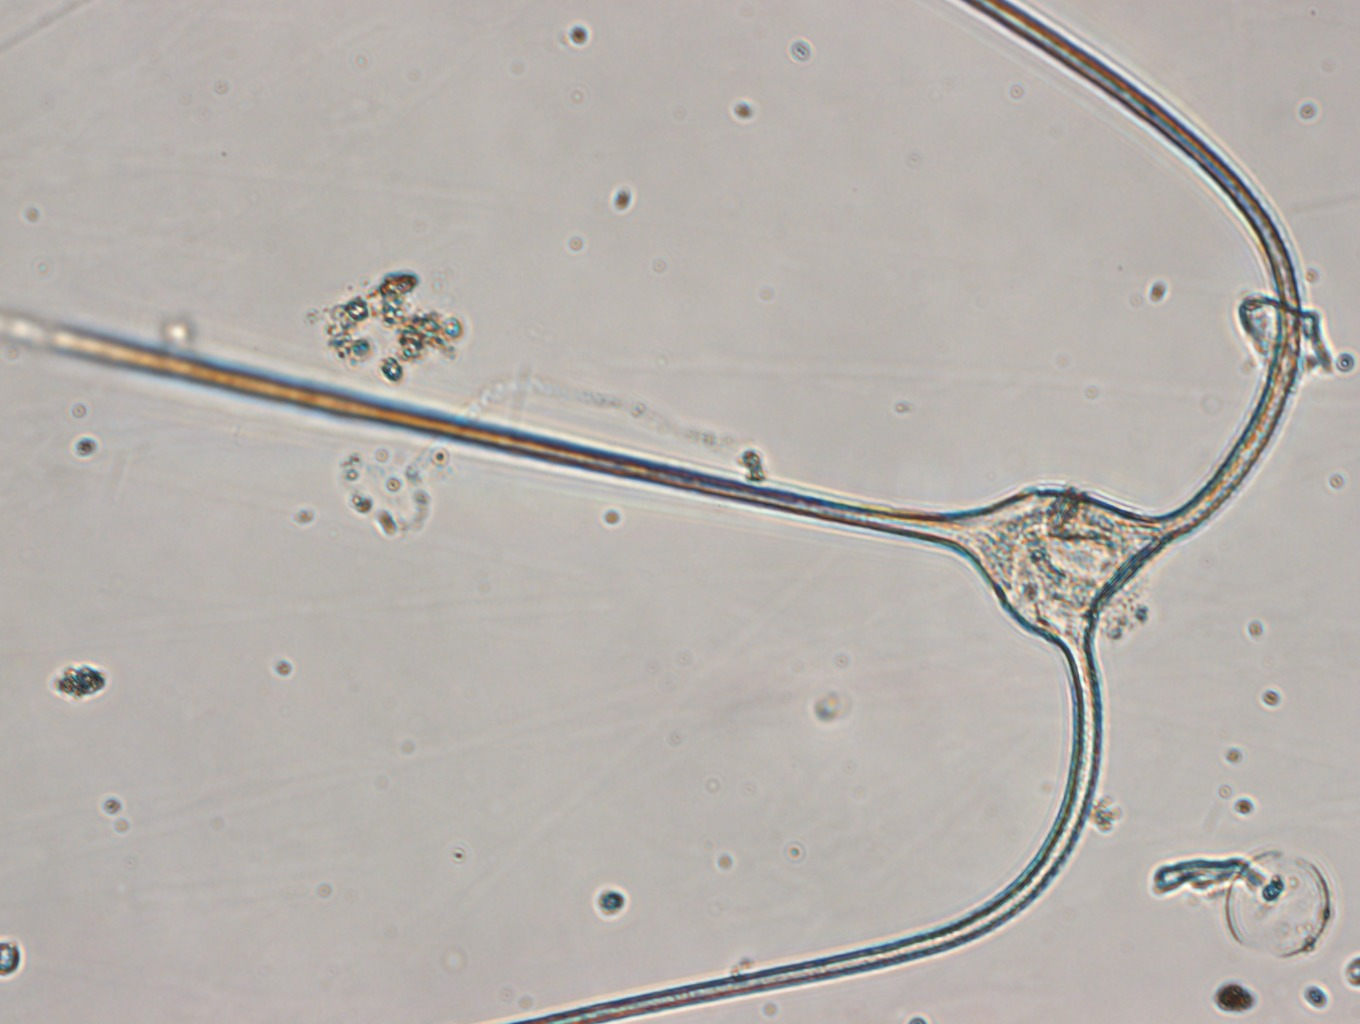ceratium trichoceros: (1, 2, 1312, 1021)
